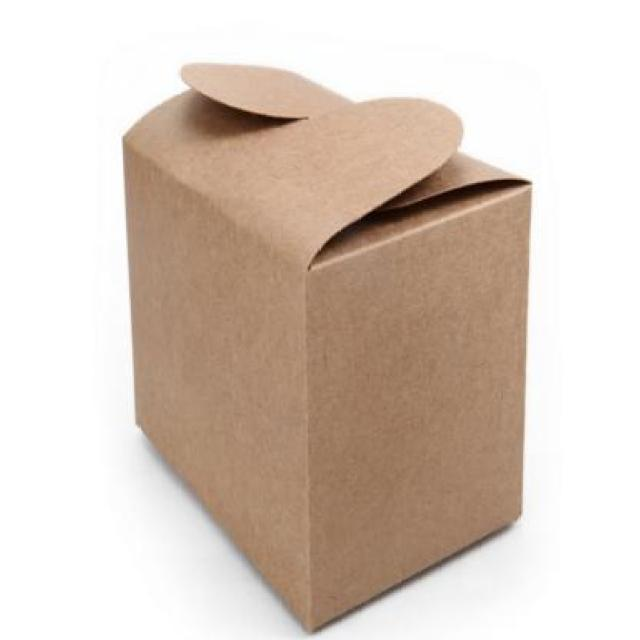box: (118, 34, 540, 640)
